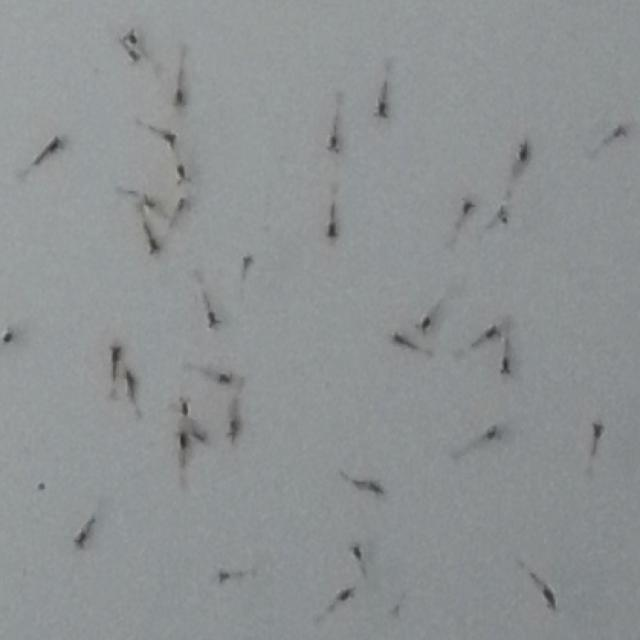shrimp-seed: (540, 584, 562, 612), (219, 370, 244, 390), (173, 164, 193, 186), (324, 134, 344, 155), (371, 99, 391, 120), (482, 422, 500, 445), (46, 134, 64, 156), (162, 127, 179, 150), (205, 308, 224, 328), (497, 355, 514, 377), (121, 368, 139, 388), (485, 322, 503, 342), (338, 584, 356, 604), (515, 140, 531, 162), (325, 219, 340, 242), (495, 204, 510, 226), (192, 426, 210, 444), (0, 328, 16, 348), (460, 196, 476, 216), (74, 529, 90, 548), (177, 397, 192, 417), (176, 194, 192, 212), (142, 192, 158, 210), (416, 316, 432, 334), (590, 420, 606, 438), (368, 479, 384, 497), (348, 543, 364, 561), (226, 419, 240, 439), (124, 28, 141, 44), (148, 236, 164, 253), (109, 342, 122, 362), (172, 88, 186, 106), (612, 122, 627, 138), (176, 431, 190, 448), (240, 252, 254, 268), (216, 568, 230, 584), (388, 602, 402, 618), (392, 328, 404, 346), (129, 48, 142, 62)
